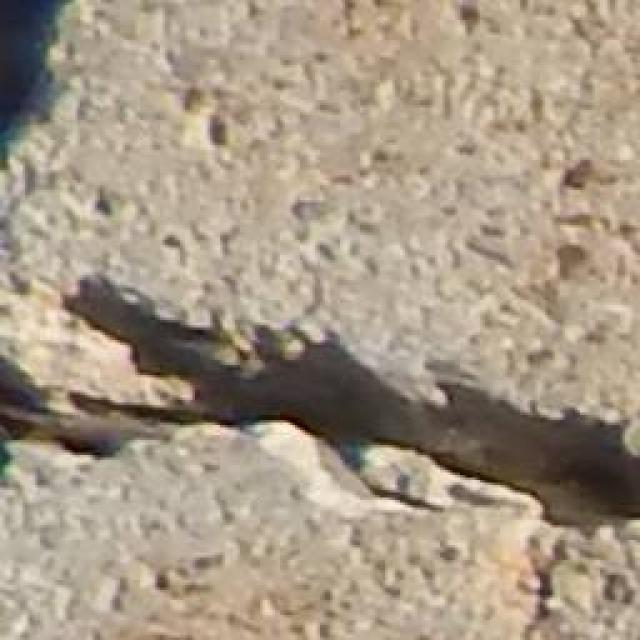concrete-crack: (0, 255, 640, 551), (0, 2, 85, 214)
